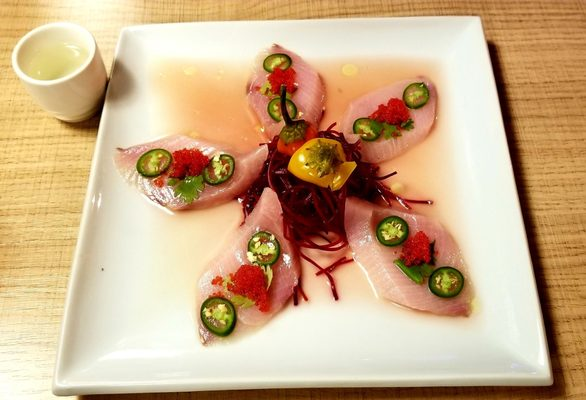pizza: (11, 20, 109, 124)
